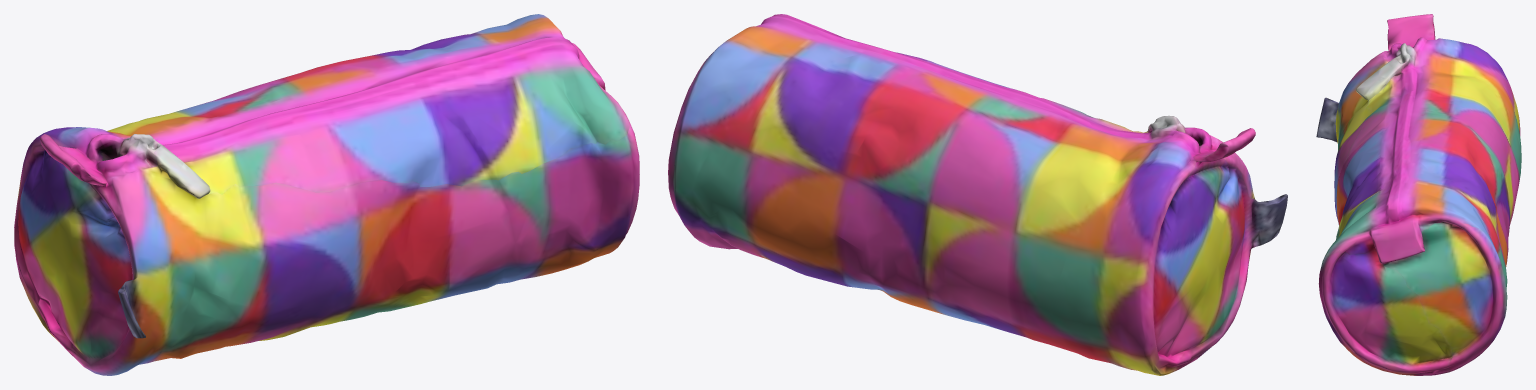
File: Pinwheel_Pencil_Case-high.glb
3 views of the same model, side by side, from view 1: azimuth 30°, elevation 25°; view 2: azimuth 150°, elevation 25°; view 3: azimuth 270°, elevation 25° (orthographic). The views are drawn at different scales.
Parts seen in each view (by area): view 1: Pinwheel_Pencil_Case; view 2: Pinwheel_Pencil_Case; view 3: Pinwheel_Pencil_Case.
Part boxes in pixels (<box>): Pinwheel_Pencil_Case: <box>14,14,639,375</box>; Pinwheel_Pencil_Case: <box>668,14,1287,375</box>; Pinwheel_Pencil_Case: <box>1316,14,1521,375</box>.
Size of the model in its own units: 0.2175 by 0.0902 by 0.0941.
1 material, 1 textured.
